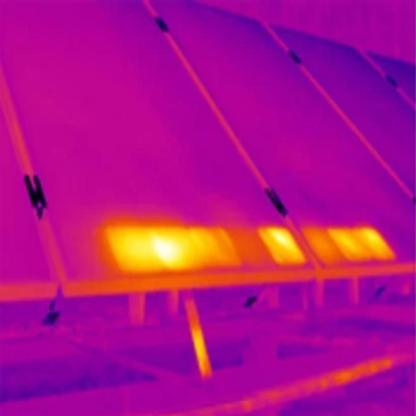anomaly: (102, 223, 305, 276), (301, 222, 396, 268)
